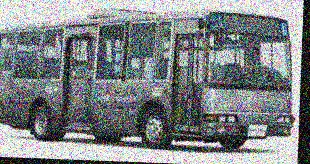bus: (0, 0, 295, 150)
